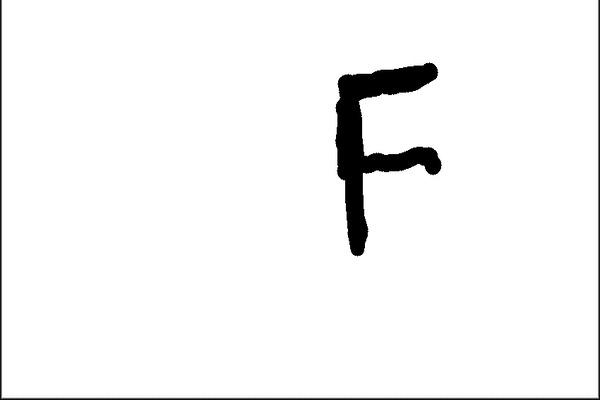F: (329, 58, 446, 260)
